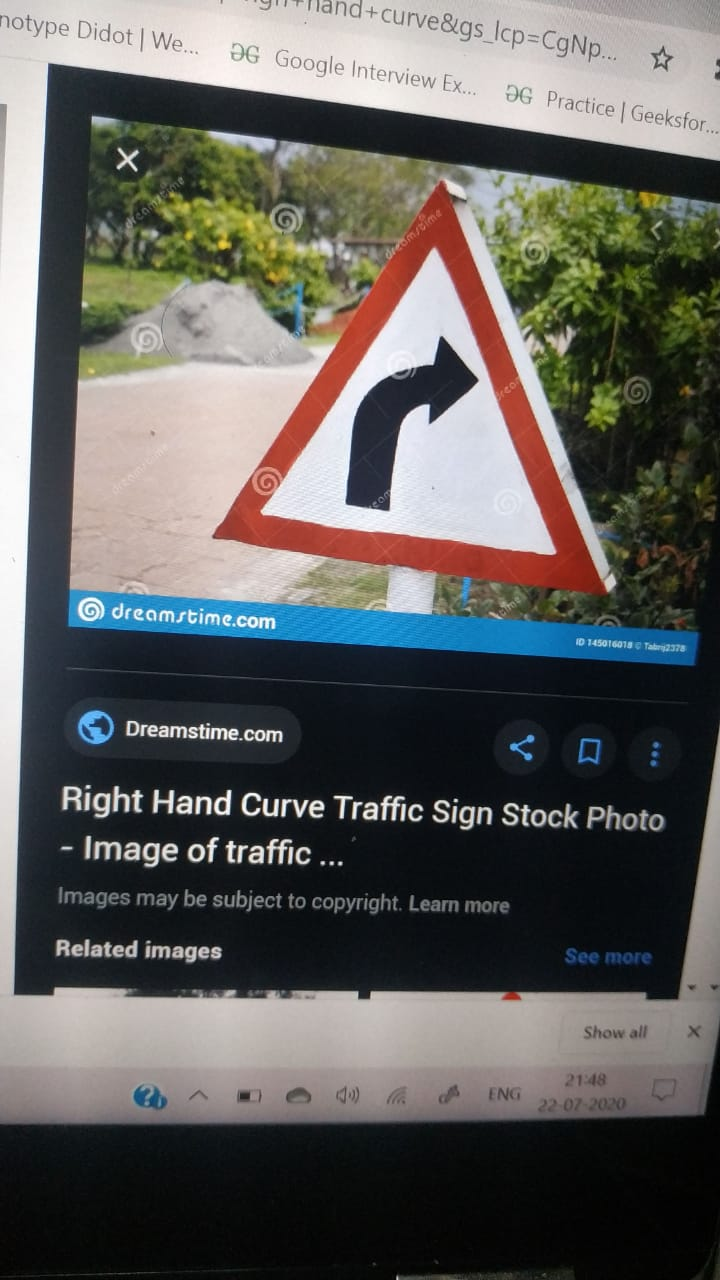RIGHT CURVE: (233, 146, 635, 613)
